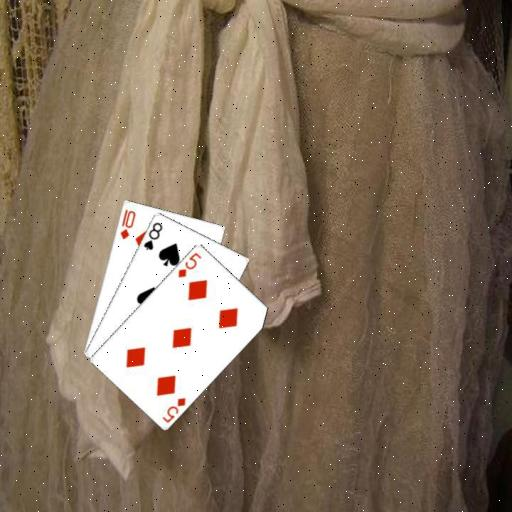10D: (117, 207, 137, 241)
5D: (175, 249, 203, 279), (159, 394, 187, 424)
8S: (140, 220, 164, 252)
